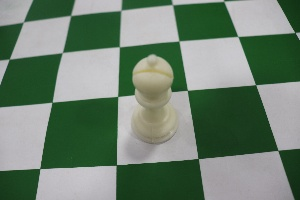white_bishop: (116, 41, 186, 153)
